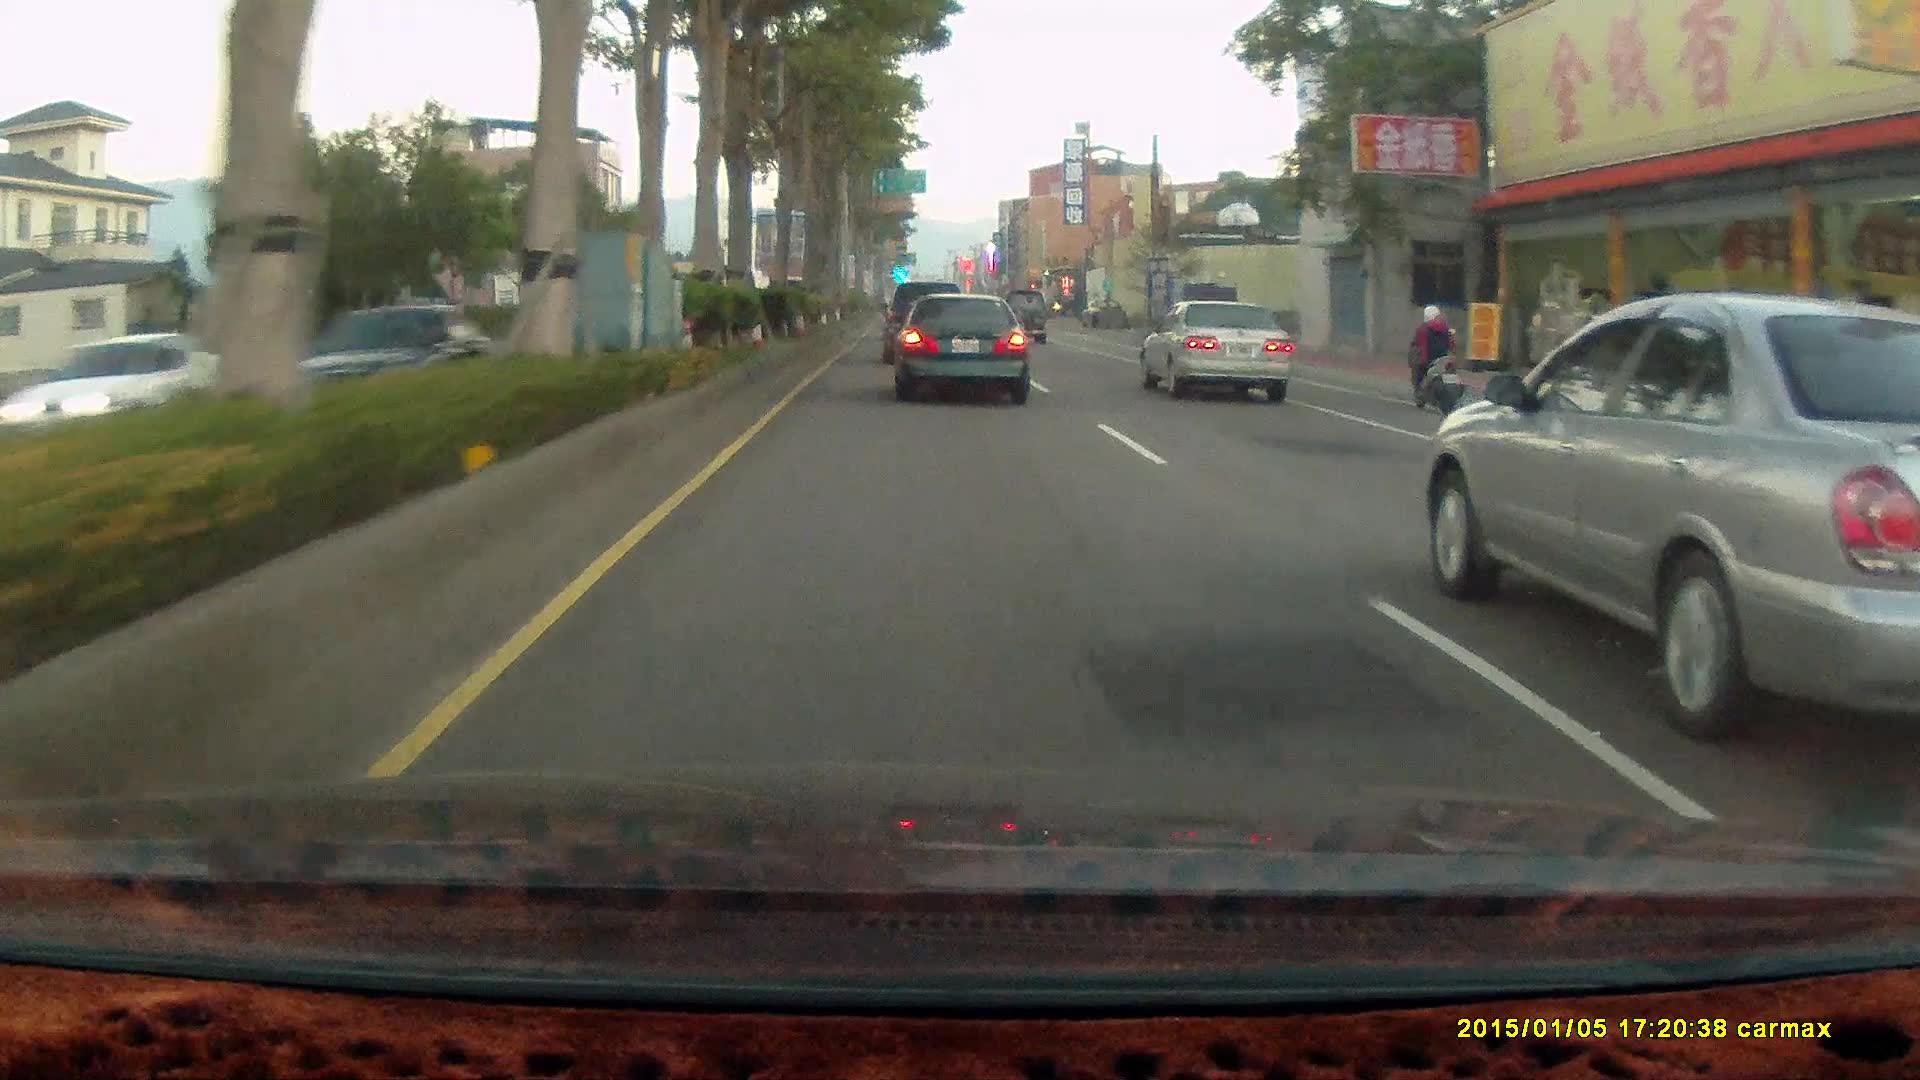rider: (1397, 296, 1474, 424), (1403, 299, 1468, 412)
vehicle: (1418, 289, 1920, 732), (0, 329, 220, 456), (284, 299, 506, 402), (9, 331, 222, 438), (1140, 298, 1300, 406), (891, 289, 1033, 407), (1138, 298, 1292, 402), (891, 286, 1031, 398), (884, 279, 973, 364), (881, 282, 963, 360), (1166, 275, 1239, 343), (999, 286, 1046, 343)
